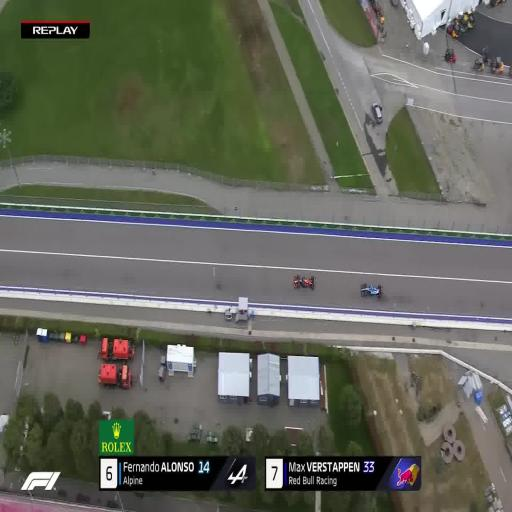f1_car: (361, 283, 383, 297), (294, 275, 315, 289)
